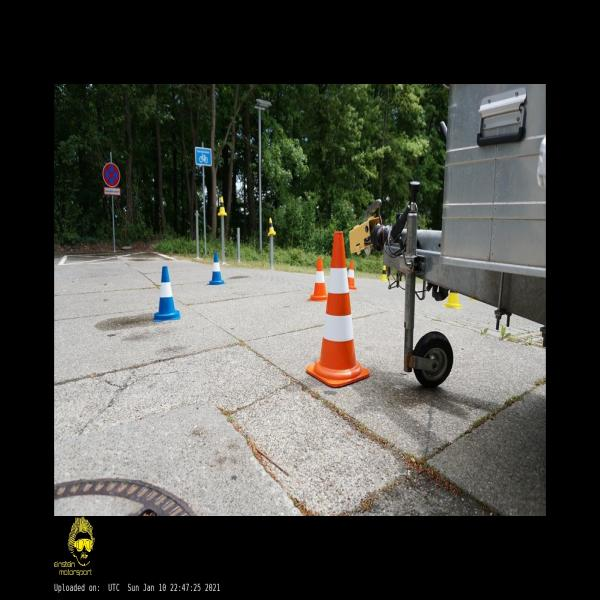blue_cone: (153, 266, 180, 322), (207, 253, 227, 285)
large_orange_cone: (306, 232, 370, 388)
orange_cone: (308, 258, 328, 302), (347, 261, 357, 290)
yellow_cone: (443, 290, 462, 308), (218, 196, 227, 215), (268, 218, 276, 236), (379, 265, 388, 281)
